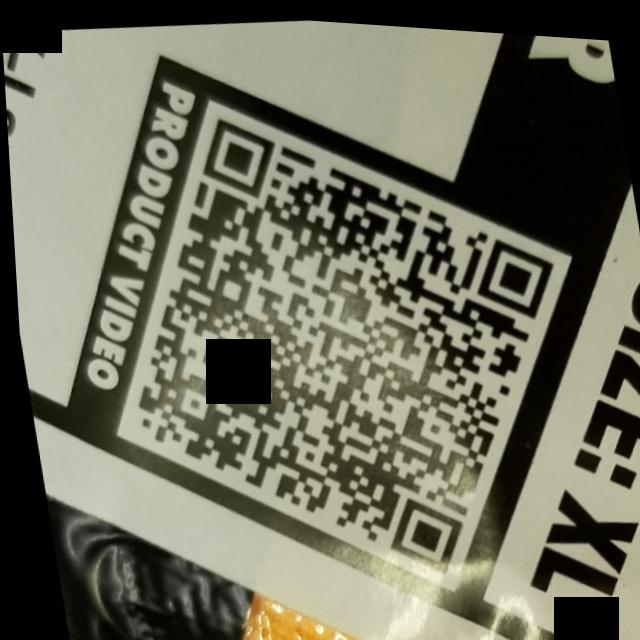QR_CODE: (72, 66, 613, 623)
